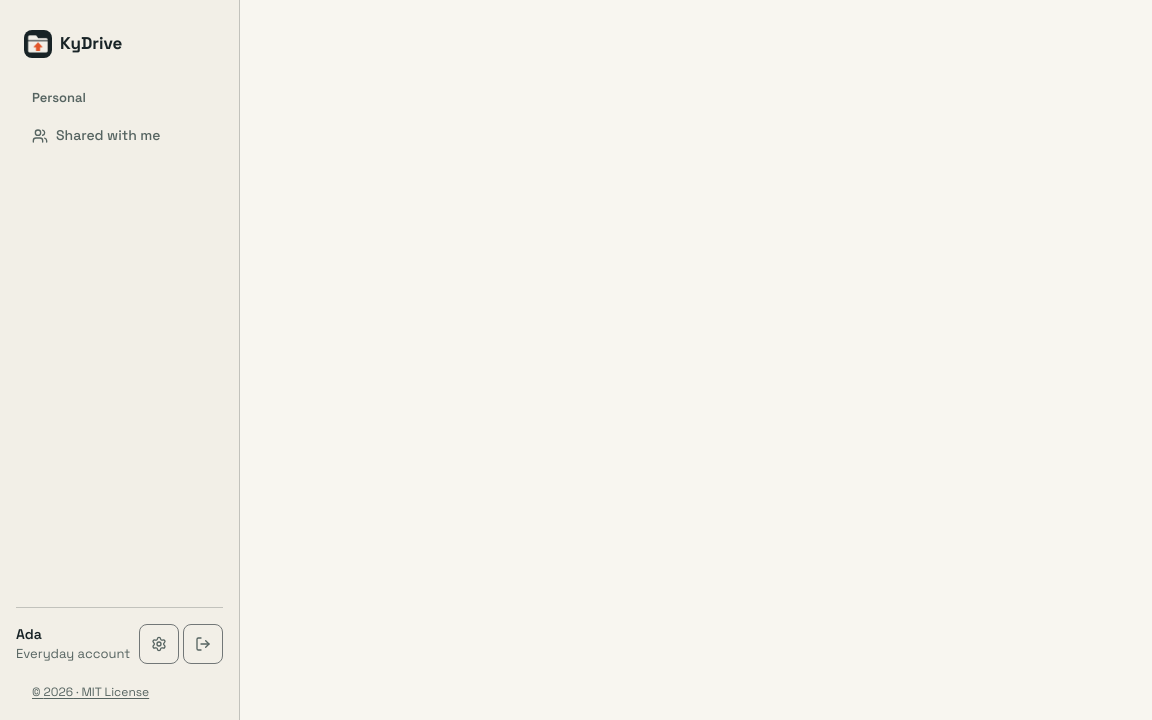
Test: AppHeader licence footer › opens the MIT licence with the server version
The width and height of the screenshot is (1152, 720).
Click the button "© 2026 · MIT License". click: (91, 692)
box: [32, 680, 149, 704]
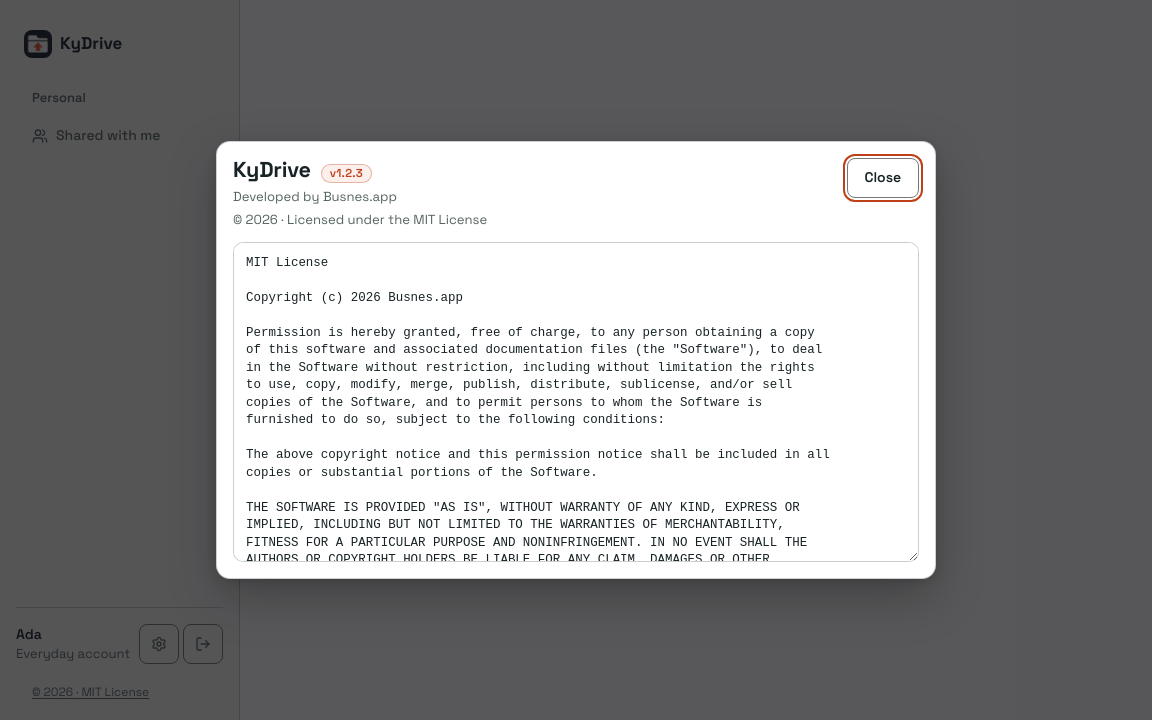
Check: the heading "KyDrive v1.2.3" is shown, box [233, 156, 372, 183]
Check: the text "v1.2.3" is shown, box [321, 164, 372, 183]
Check: the text "Developed by Busnes.app" is shown, box [233, 188, 397, 205]
Click the button "Close". click: (883, 178)
box: [847, 158, 919, 198]
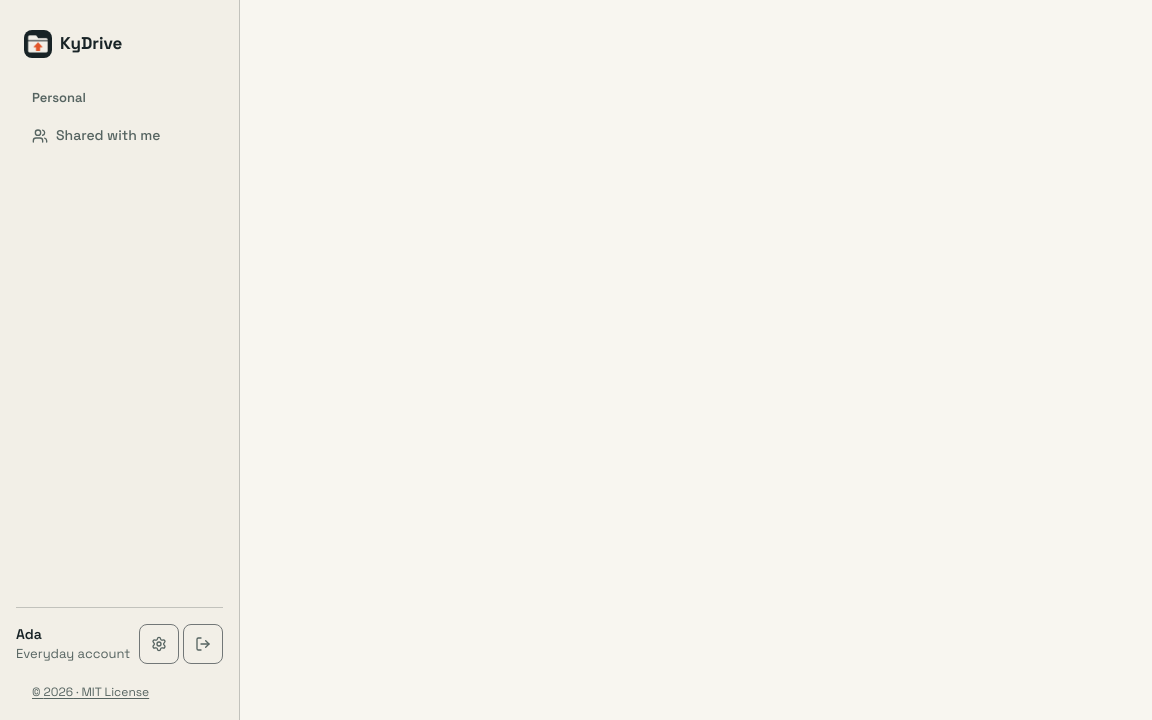
Check: the dialog is gone
